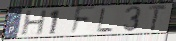1: (49, 8, 62, 35)
3: (121, 6, 142, 33)
F: (69, 5, 97, 37)
H: (20, 9, 49, 36)
L: (96, 7, 116, 33)
T: (147, 4, 169, 33)
